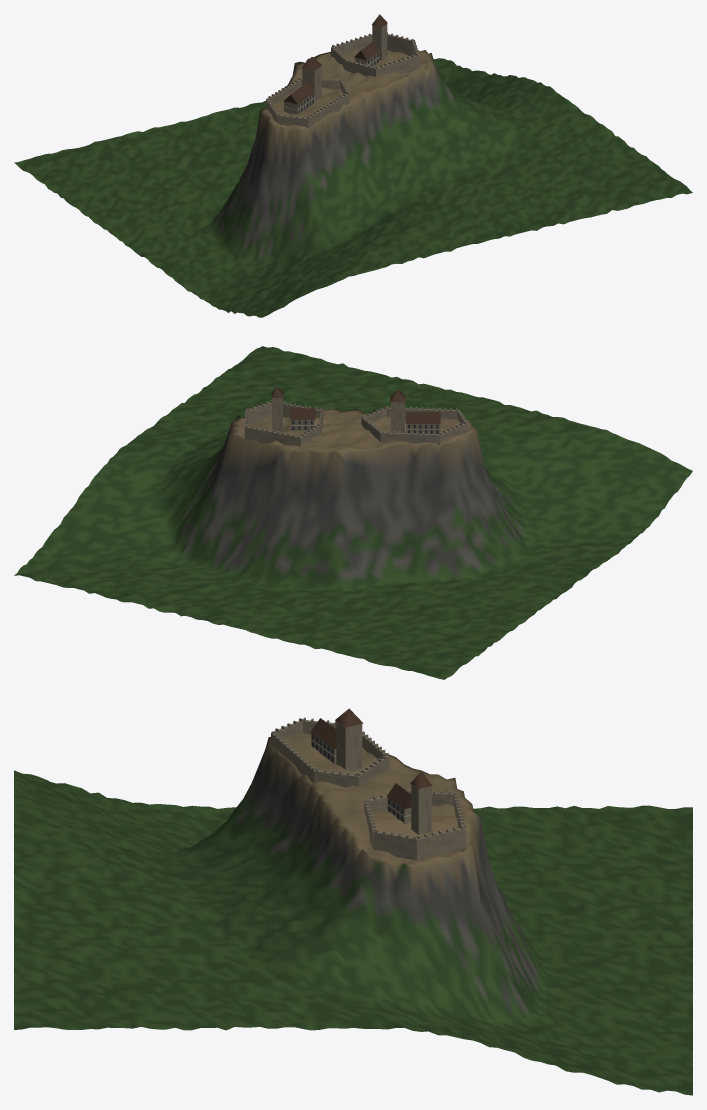
The model's file is neuschwanstein-b15.glb.
3 views of the same model, one above another, from view 1: azimuth 30°, elevation 25°; view 2: azimuth 150°, elevation 25°; view 3: azimuth 270°, elevation 25° (orthographic). The views are drawn at different scales.
Bounding box in the file's own units: 32 × 11.2 × 32.
5 materials, 3 textured.
